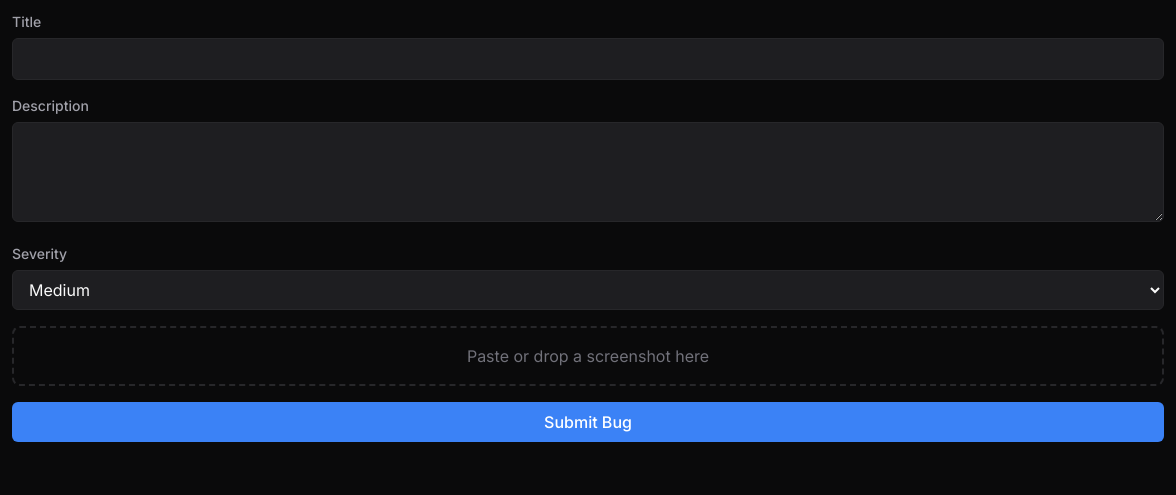
Test case: BugSubmitPanel › validates required fields
Click the button "Submit Bug" at {"x": 588, "y": 422}, box [12,402,1164,442]
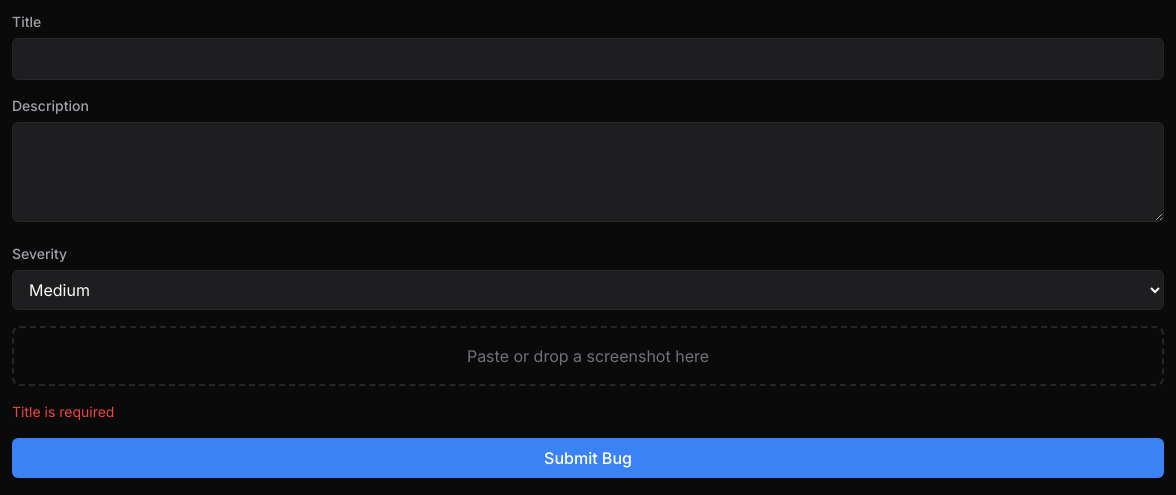
Now the text "Title is required" is shown, box [12,403,114,420]
